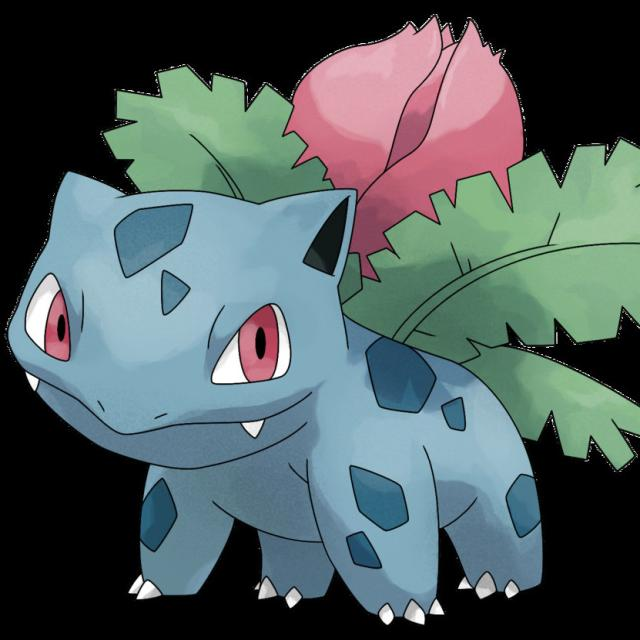Ivysaur: (5, 15, 565, 602)
